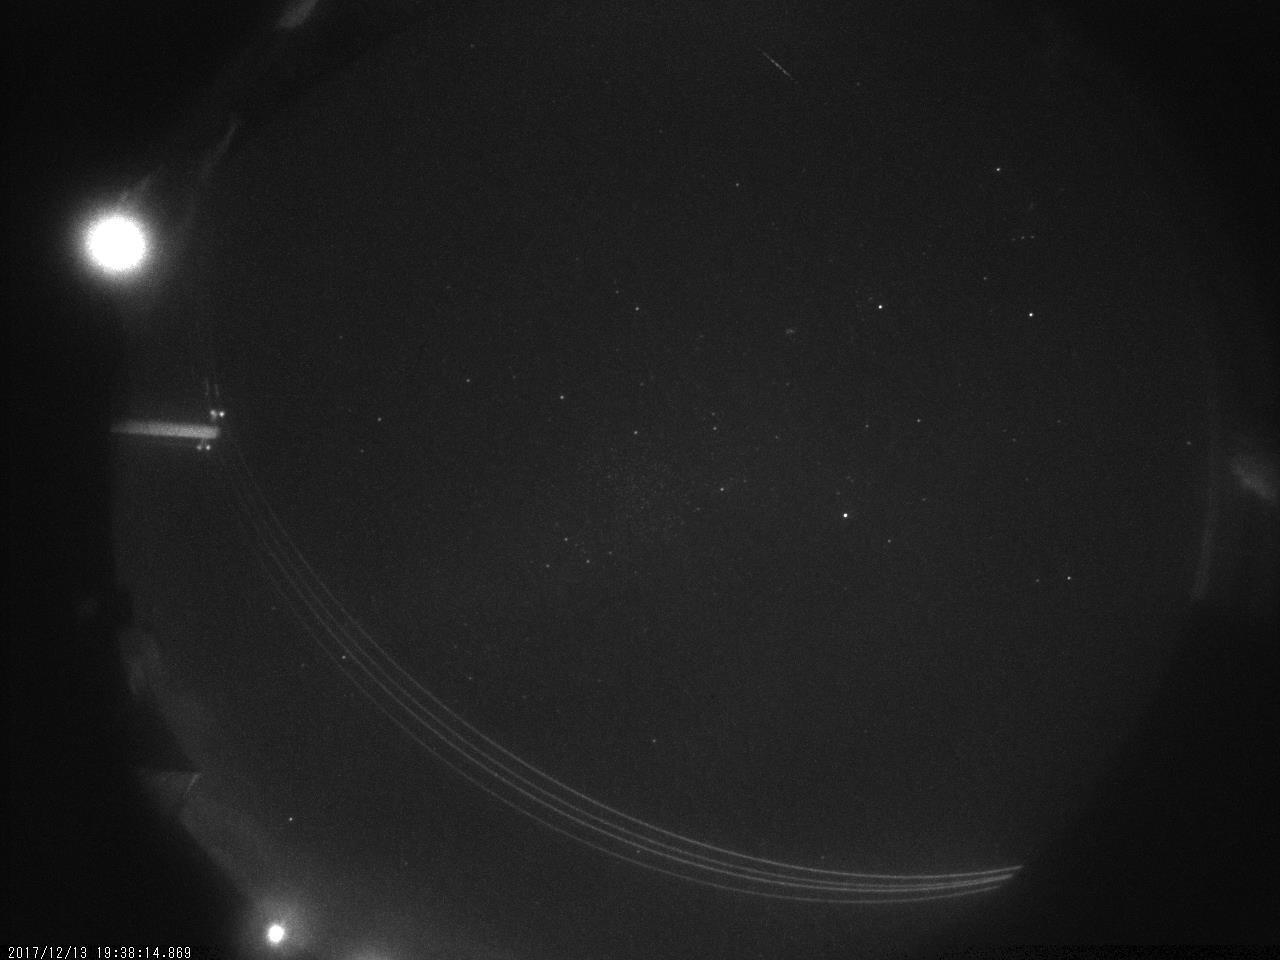Meteor: (753, 41, 800, 90)
